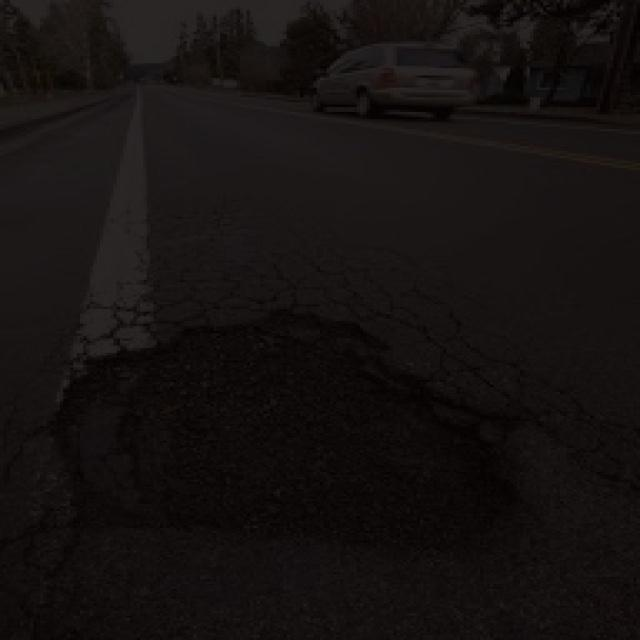Pothole: (36, 300, 535, 566)
